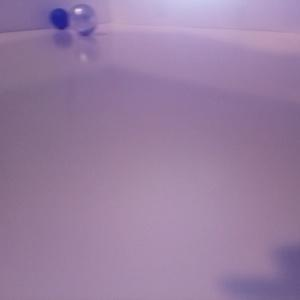alive_ball: (68, 4, 96, 35)
dead_ball: (51, 8, 68, 29)
